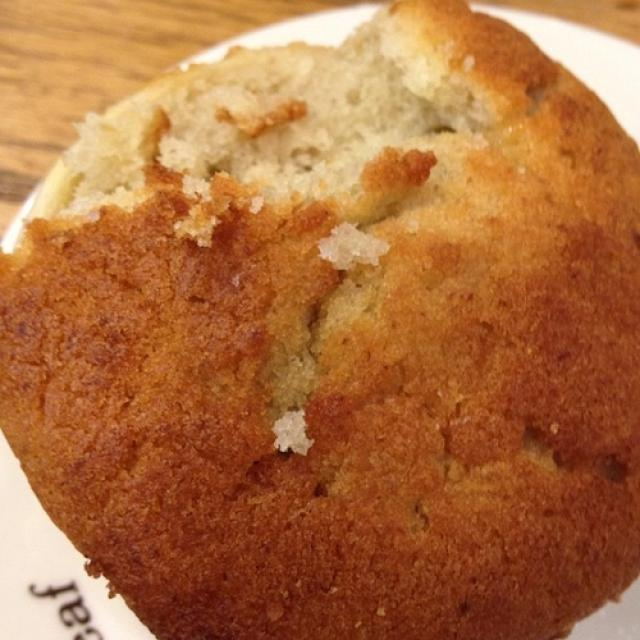炸货点心: (4, 8, 637, 620)
面包点心: (4, 8, 637, 620)
